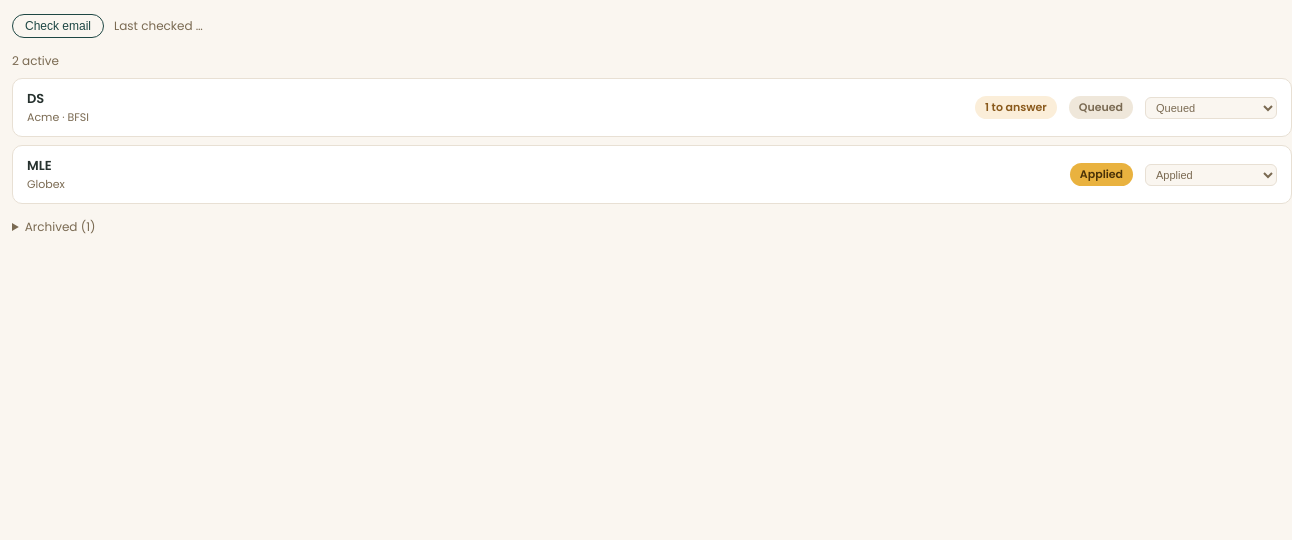
row shows an open-questions badge; expanded panel shows draft confidence, basis, context
The width and height of the screenshot is (1292, 540).
Expected: the text with test id "open-badge-1" reads "1 to answer", [975, 96, 1057, 119]
Step 1. Click the text "DS" → (36, 98), box [27, 89, 44, 108]
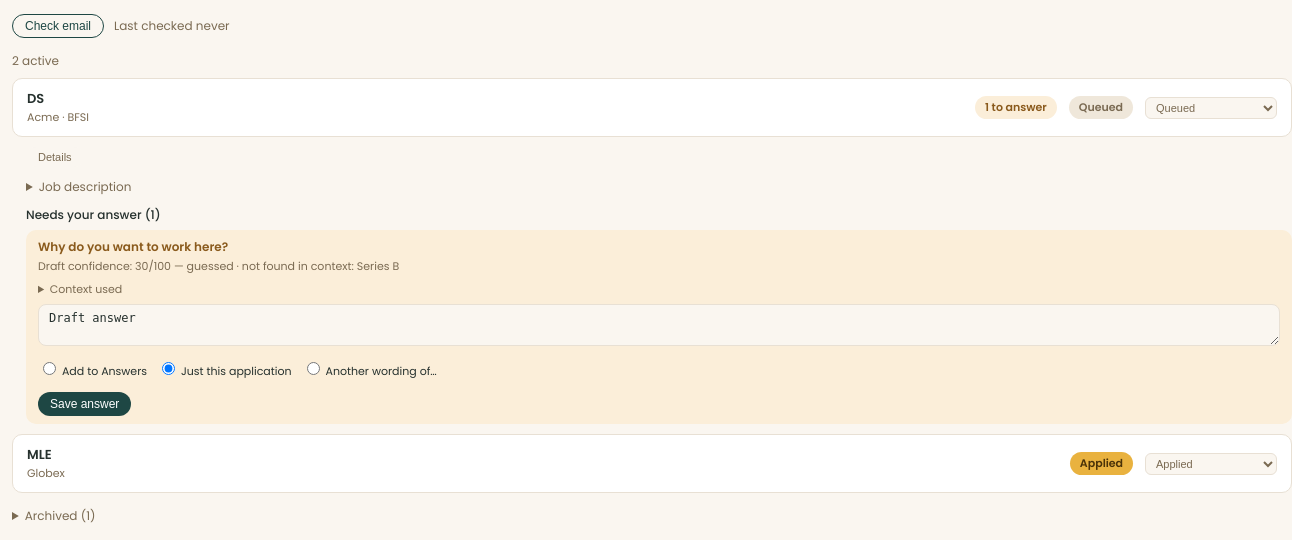
Result: the text "Why do you want to work here?" is shown at [38, 238, 228, 255]
Result: the text "30/100 — guessed" is shown at [38, 258, 399, 274]
Result: the text "not found in context: Series B" is shown at [234, 258, 399, 274]
